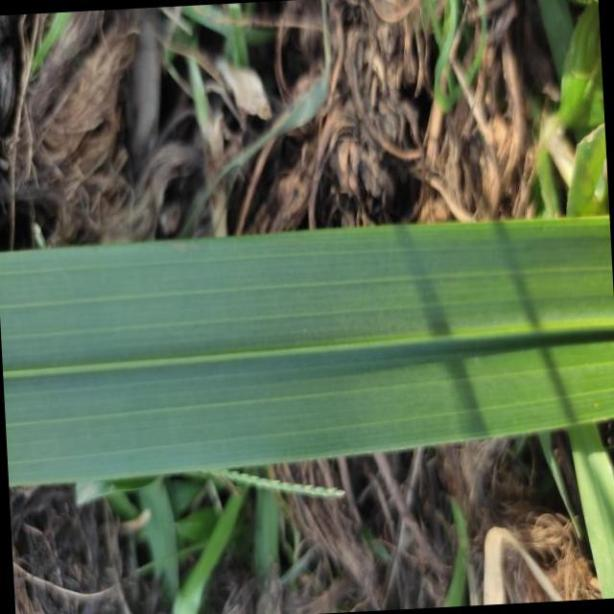Healthy: (0, 214, 614, 488)
